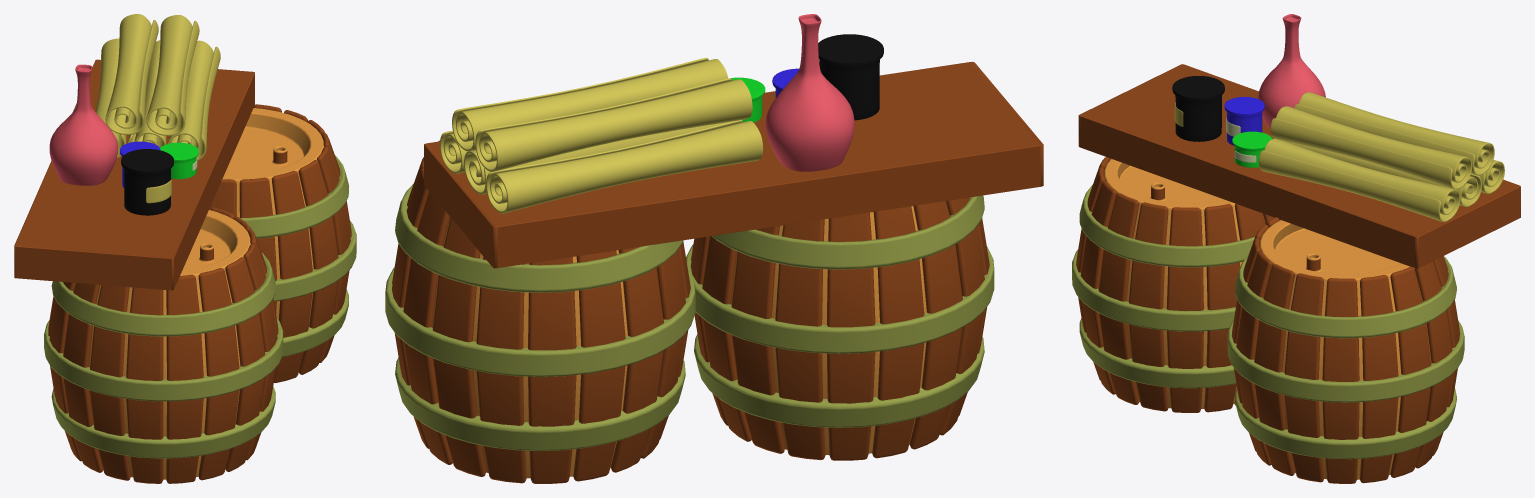
The model's file is mensola.fbx.
3 views of the same model, side by side, from view 1: azimuth 30°, elevation 25°; view 2: azimuth 150°, elevation 25°; view 3: azimuth 270°, elevation 25° (orthographic). The views are drawn at different scales.
Parts seen in each view (by area): view 1: botte, botte.001, mensola, pergamene, pozione rossa, contenitore nero, contenitore verde, contenitore blu; view 2: botte.001, botte, mensola, pergamene, pozione rossa, contenitore nero; view 3: botte.001, botte, mensola, pergamene, pozione rossa, contenitore nero, contenitore blu, contenitore verde.
Boxes of the visible parts, left/top/right/bottom form: botte: left=44, top=207, right=283, bottom=483; botte.001: left=209, top=104, right=356, bottom=382; mensola: left=14, top=59, right=254, bottom=290; pergamene: left=95, top=14, right=220, bottom=160; pozione rossa: left=49, top=64, right=118, bottom=185; contenitore nero: left=121, top=149, right=173, bottom=215; contenitore verde: left=160, top=142, right=198, bottom=179; contenitore blu: left=120, top=141, right=160, bottom=187; botte.001: left=385, top=140, right=695, bottom=483; botte: left=686, top=195, right=994, bottom=460; mensola: left=424, top=61, right=1043, bottom=268; pergamene: left=440, top=57, right=763, bottom=213; pozione rossa: left=765, top=14, right=854, bottom=171; contenitore nero: left=818, top=34, right=883, bottom=120; botte.001: left=1227, top=217, right=1464, bottom=483; botte: left=1072, top=157, right=1274, bottom=412; mensola: left=1078, top=64, right=1520, bottom=268; pergamene: left=1258, top=92, right=1504, bottom=221; pozione rossa: left=1258, top=14, right=1325, bottom=128; contenitore nero: left=1172, top=76, right=1224, bottom=141; contenitore blu: left=1224, top=97, right=1264, bottom=145; contenitore verde: left=1232, top=131, right=1272, bottom=167.
Size of the model in its own units: 235 by 191 by 226.
